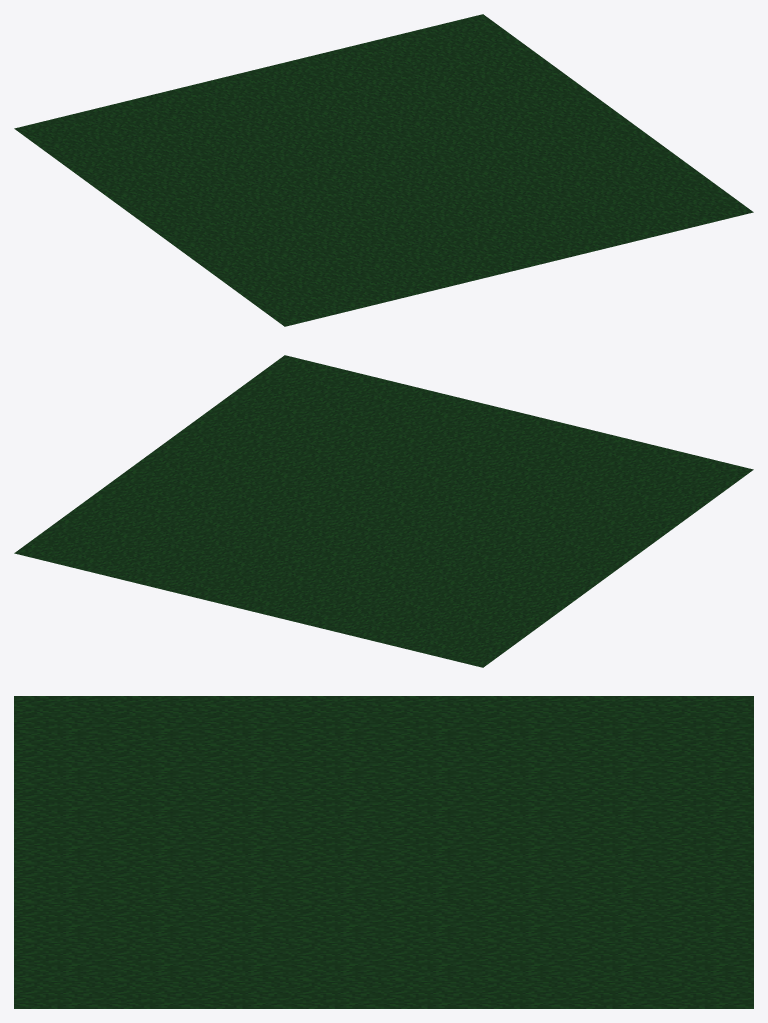
The model's file is grass.obj.
The picture shows the model from 3 angles, top to bottom: view 1: azimuth 30°, elevation 25°; view 2: azimuth 150°, elevation 25°; view 3: azimuth 270°, elevation 25°; orthographic projection. The views are drawn at different scales.
Visible parts, largest first — view 1: Grass; view 2: Grass; view 3: Grass.
Part boxes in pixels (x1,y1,x2,y2): Grass: (14, 14, 753, 326); Grass: (14, 355, 753, 667); Grass: (14, 696, 753, 1008).
Size of the model in its own units: 32 by 0 by 32.
